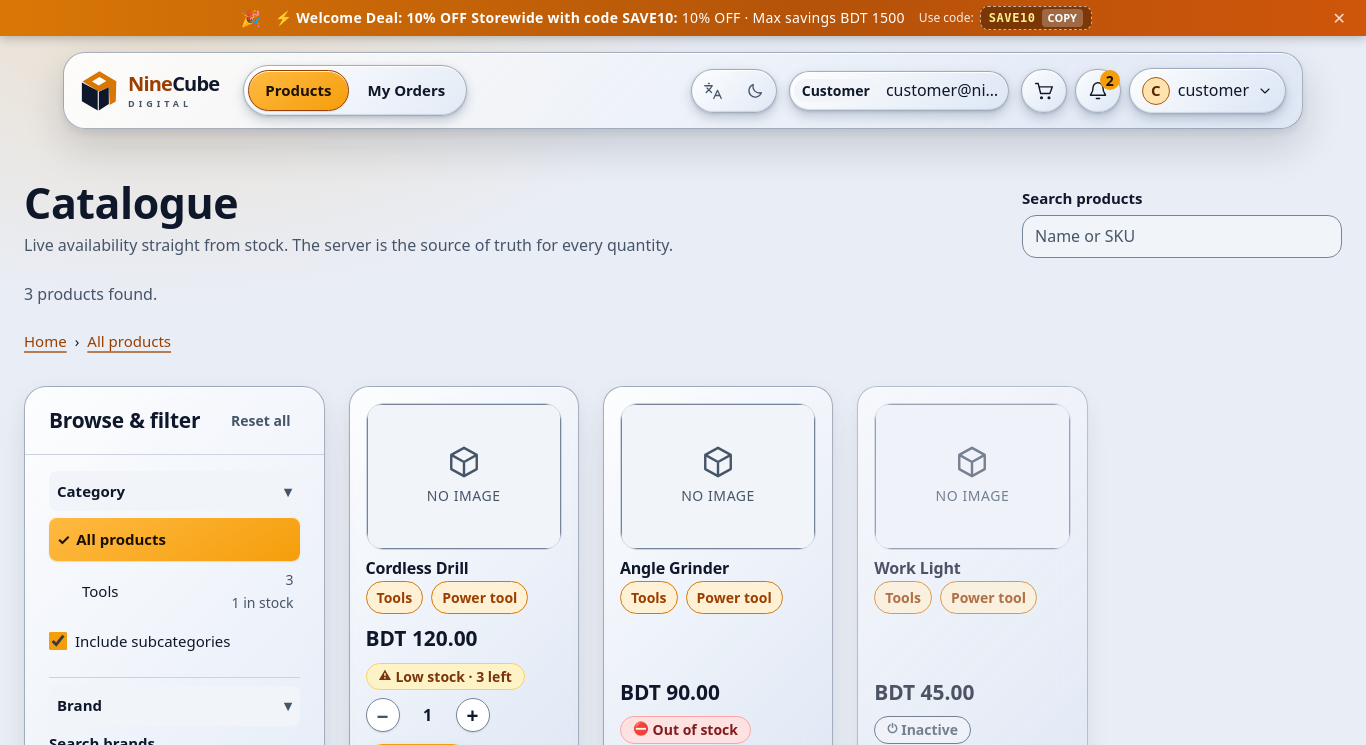
Test: Counts against the result list › marks the selected row with a tick and words, not colour alone
The width and height of the screenshot is (1366, 745).
Expected: the heading "Catalogue" is shown, [24,173,238,232]
What coordinates should you click on to do the following:
click the button "Tools 3 1 in stock"
I would click on:
 (188, 592)
Its box is [76,561,300,622].
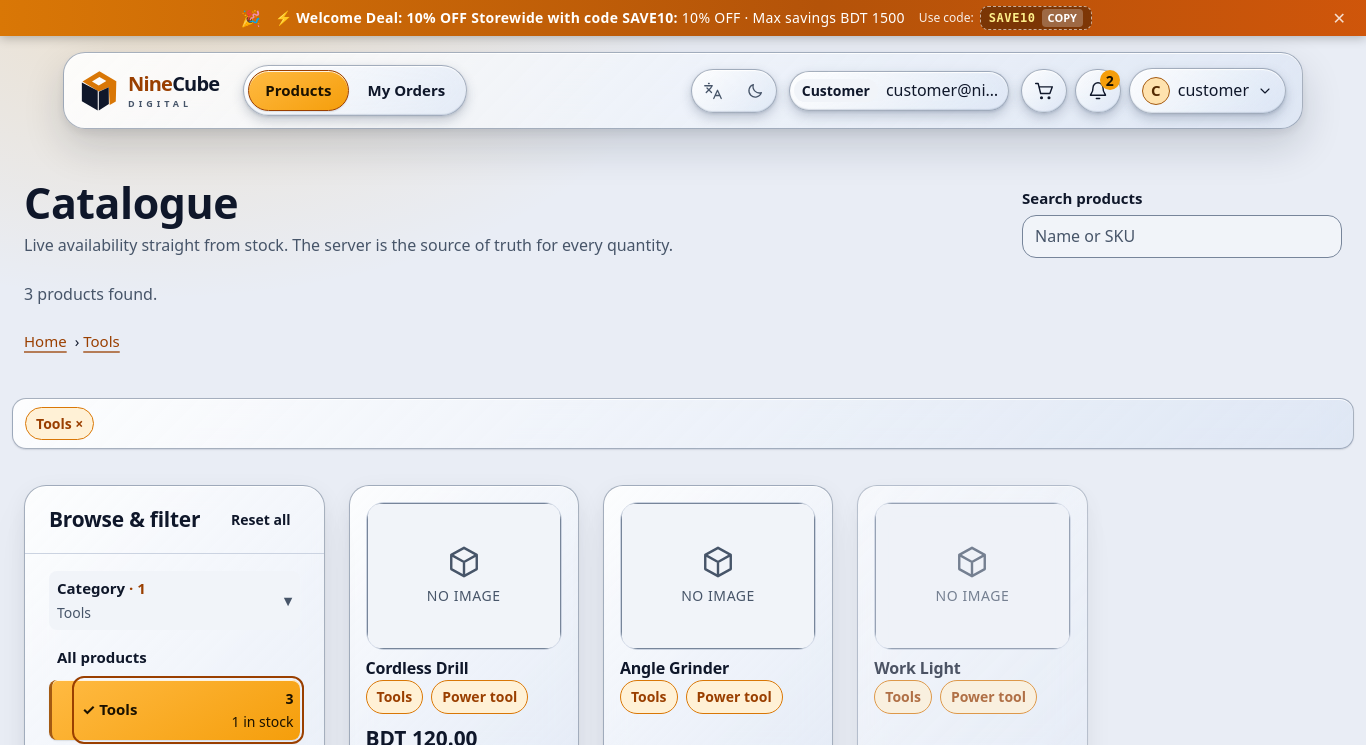
Result: the element with class "category-tree__label" reads "✓ Tools" at [82,699,137,719]
